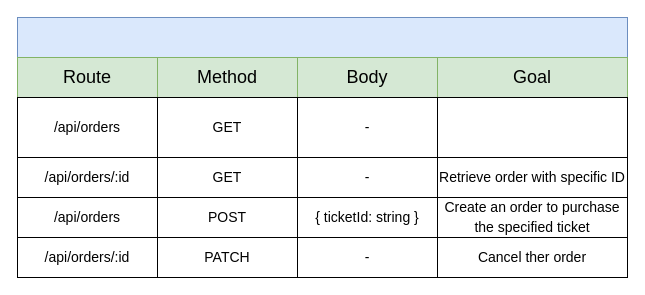
This 645x295 diagram has some shape labels left out. Each missing label, with the box of its shape:
Orders Service: (16, 16, 628, 58)
Retrieve all active orders for the given user making the request: (436, 96, 628, 158)
